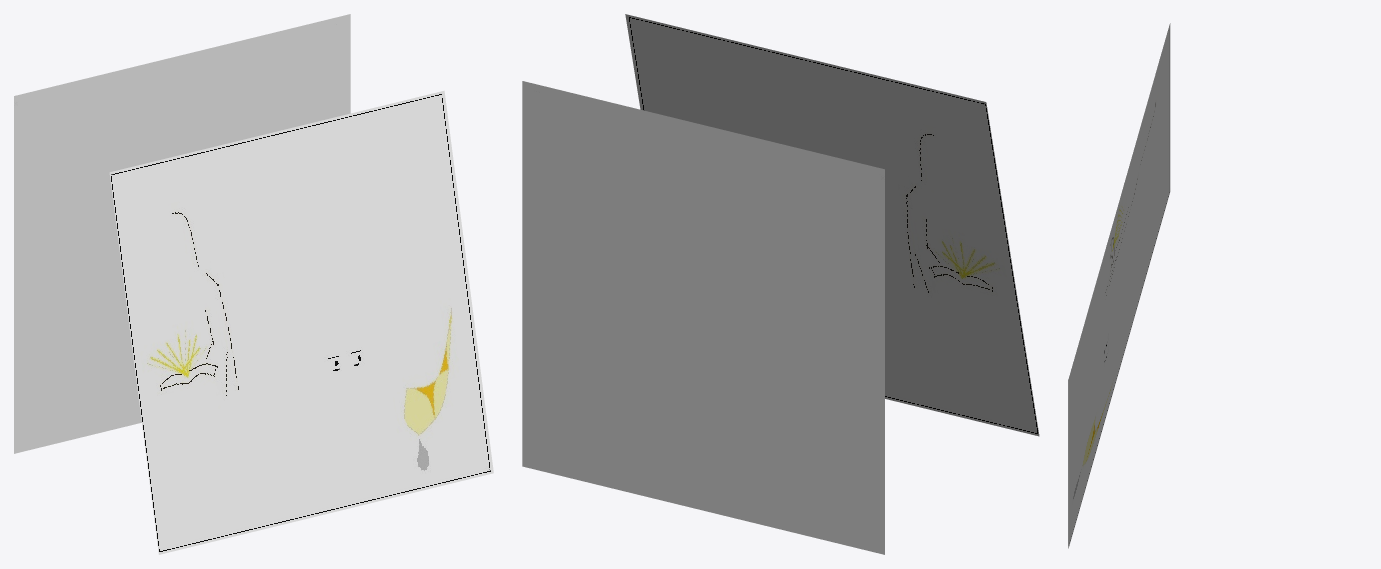
Rendered from Scan and damage.glb.
The picture shows the model from 3 angles, left to right: view 1: azimuth 30°, elevation 25°; view 2: azimuth 150°, elevation 25°; view 3: azimuth 270°, elevation 25°; orthographic projection. The views are drawn at different scales.
Visible parts, largest first — view 1: mesh_id29, mesh_id1; view 2: mesh_id1, mesh_id29; view 3: mesh_id29.
Part boxes in pixels (x1,y1,x2,y2): mesh_id29: (109,90,493,554); mesh_id1: (14,14,350,453); mesh_id1: (522,81,884,554); mesh_id29: (625,14,1039,436); mesh_id29: (1068,23,1170,548).
Bounding box in the file's own units: 0.488 × 0.496 × 0.362.
Materials: 2 (2 with a texture image).
